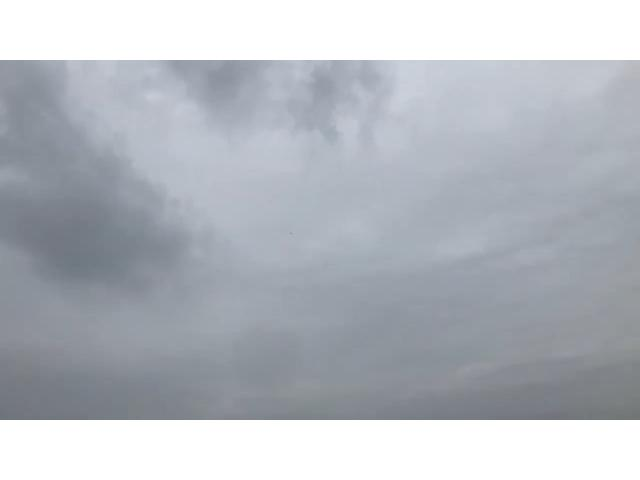Anti-Drone: (284, 226, 300, 238)
